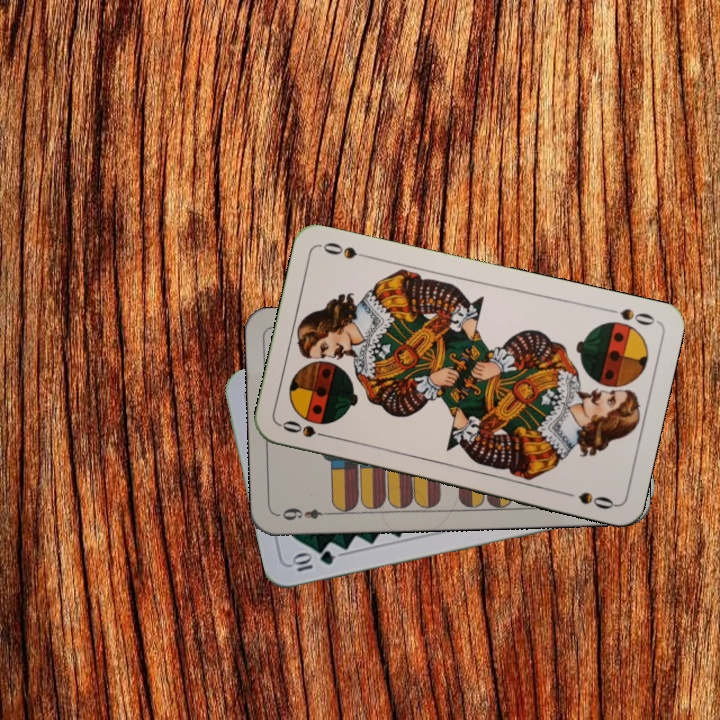E9: (275, 504, 334, 523)
G10: (288, 546, 337, 574)
SO: (278, 416, 336, 441), (601, 303, 658, 328)
